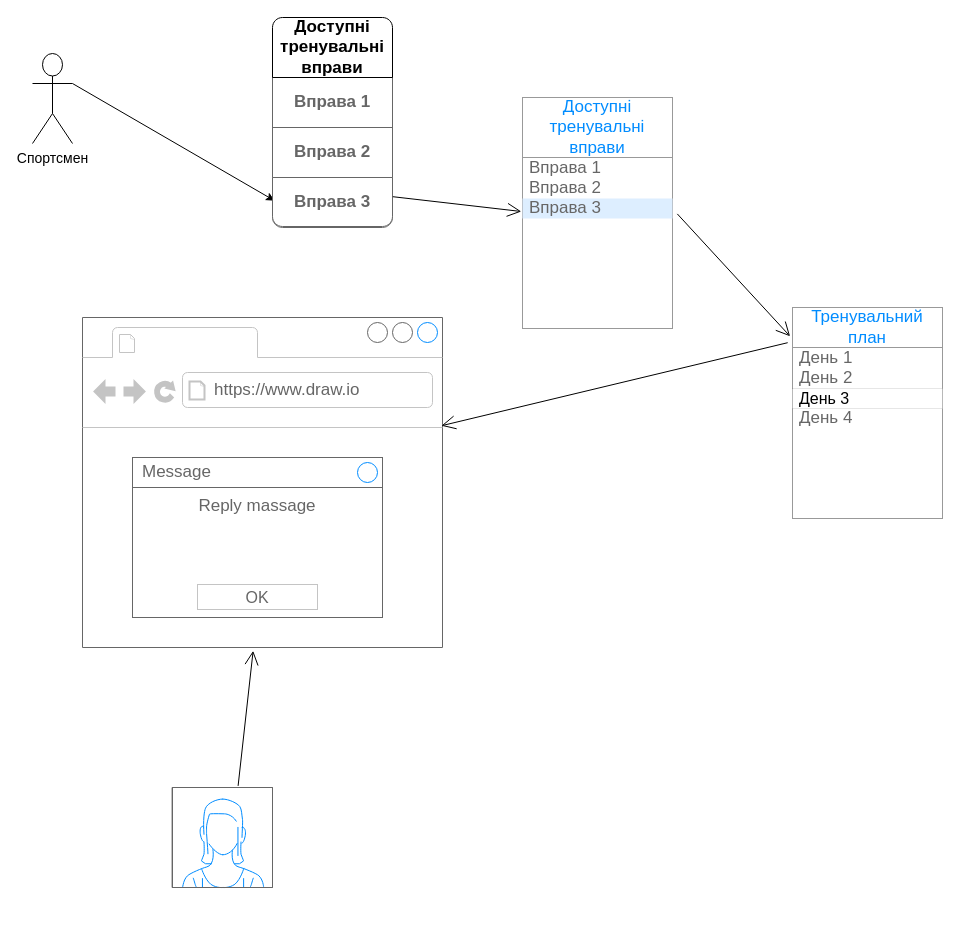
This 960x926 diagram has some shape labels left out. Here are the shapes that lost their labels. From the top down, the centre of each, then its label:
the point at 197,342: Page 1
the point at 222,837: Експерт
